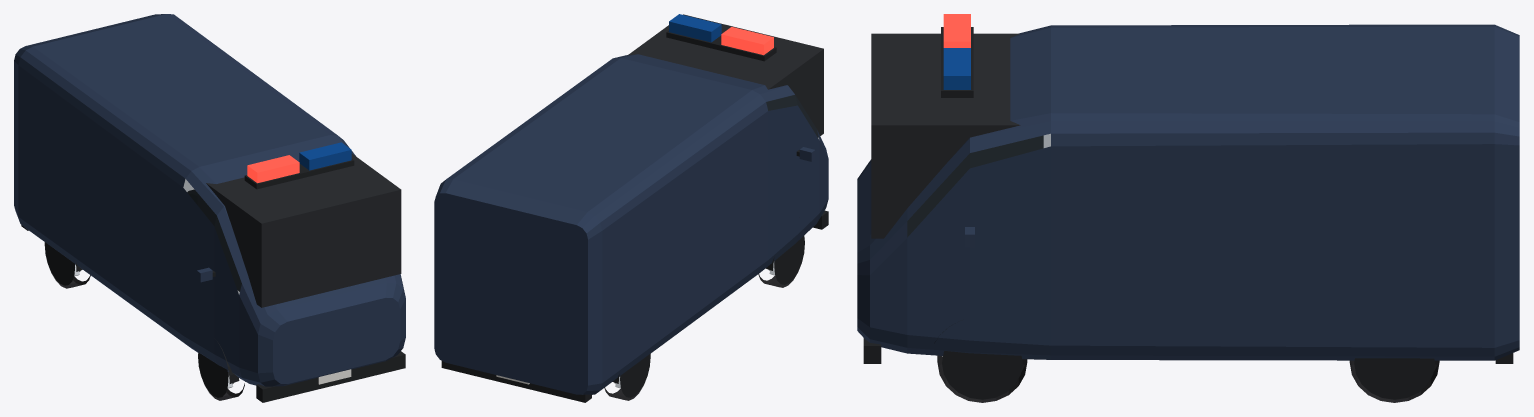
Rendered from ambulance.glb.
3 views of the same model, side by side, from view 1: azimuth 30°, elevation 25°; view 2: azimuth 150°, elevation 25°; view 3: azimuth 270°, elevation 25° (orthographic). The views are drawn at different scales.
Parts seen in each view (by area): view 1: body, wheel_FL, wheel_RL; view 2: body, wheel_FL, wheel_RL; view 3: body, wheel_FR, wheel_RR.
Boxes of the visible parts, <box> form: body: <box>14,14,405,402</box>; wheel_FL: <box>198,352,245,400</box>; wheel_RL: <box>44,242,90,288</box>; body: <box>434,14,828,402</box>; wheel_FL: <box>758,236,804,287</box>; wheel_RL: <box>604,353,650,400</box>; body: <box>857,14,1519,363</box>; wheel_FR: <box>937,351,1027,402</box>; wheel_RR: <box>1349,358,1439,402</box>.
Size of the model in its own units: 2.39 by 2.72 by 5.3.
